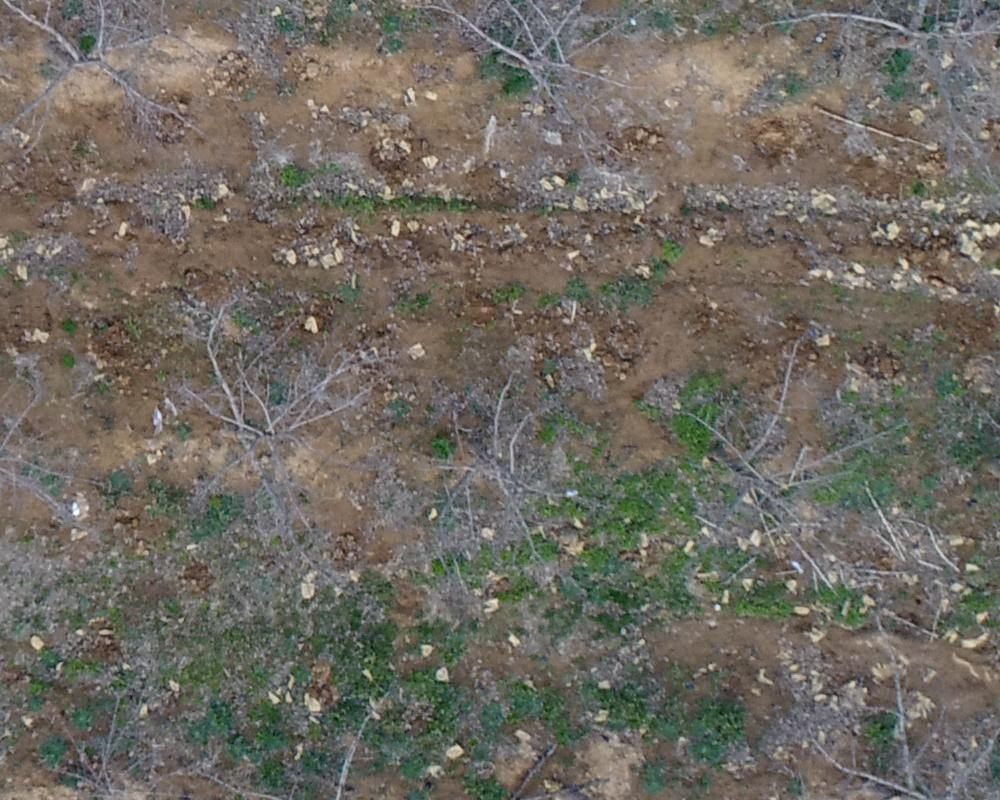apple: (651, 332, 908, 594), (151, 293, 387, 537), (390, 367, 593, 576), (428, 10, 672, 127), (10, 10, 197, 147), (185, 684, 426, 790), (18, 692, 172, 790)
